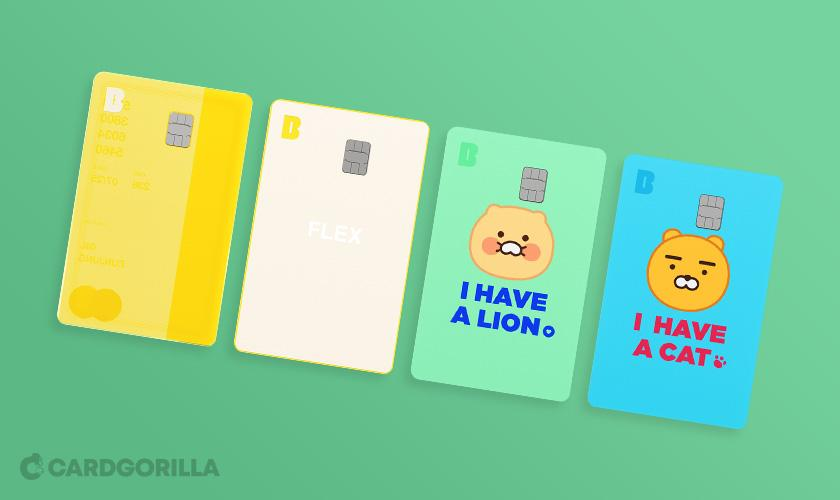Credit_card: (411, 127, 605, 400), (589, 155, 782, 428), (234, 100, 427, 373), (58, 73, 251, 345)
